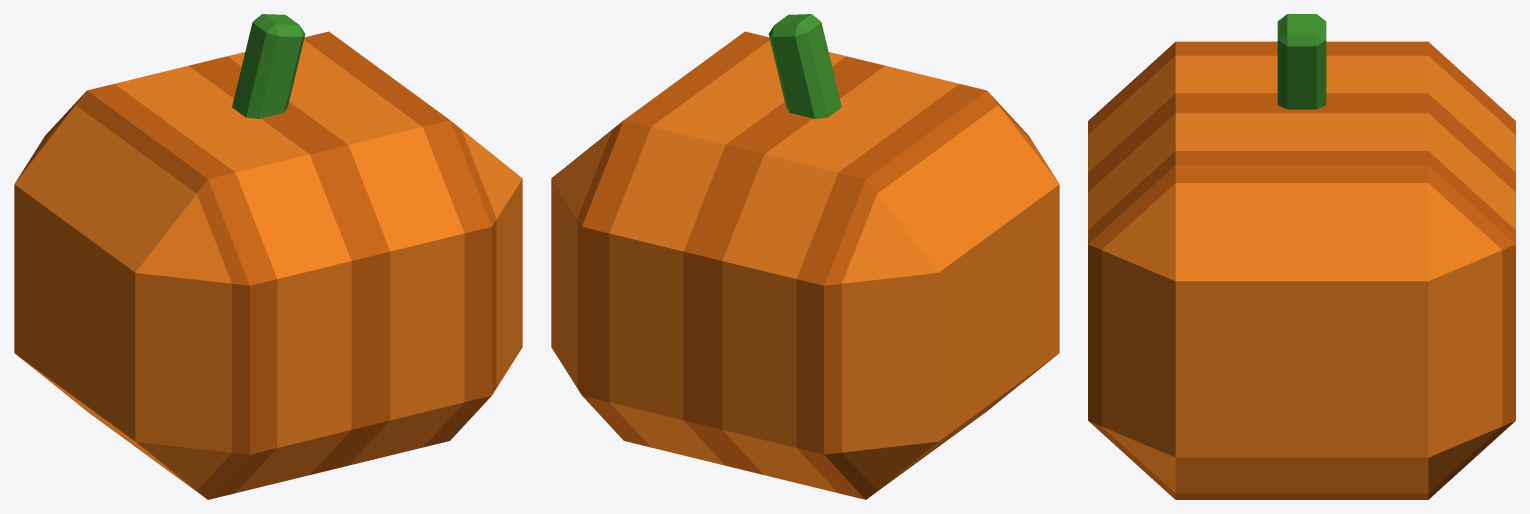
The model's file is PlainPumpkin.fbx.
The picture shows the model from 3 angles, left to right: view 1: azimuth 30°, elevation 25°; view 2: azimuth 150°, elevation 25°; view 3: azimuth 270°, elevation 25°; orthographic projection. The views are drawn at different scales.
Visible parts, largest first — view 1: PlainPumpkin; view 2: PlainPumpkin; view 3: PlainPumpkin.
Part boxes in pixels (x1,y1,x2,y2): PlainPumpkin: (14,14,522,499); PlainPumpkin: (551,14,1059,499); PlainPumpkin: (1088,14,1515,499).
Bounding box in the file's own units: 2.4 × 2.41 × 2.2.
Materials: 1 (1 with a texture image).
